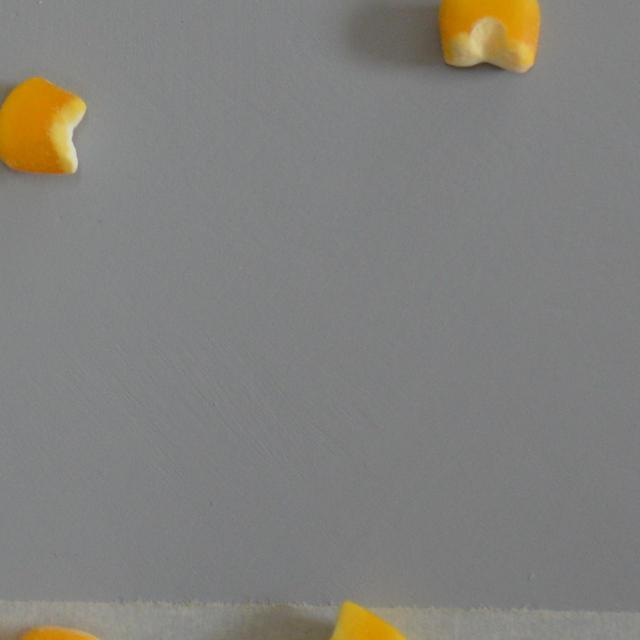no_canjicado: (0, 74, 88, 174), (436, 0, 540, 75)
